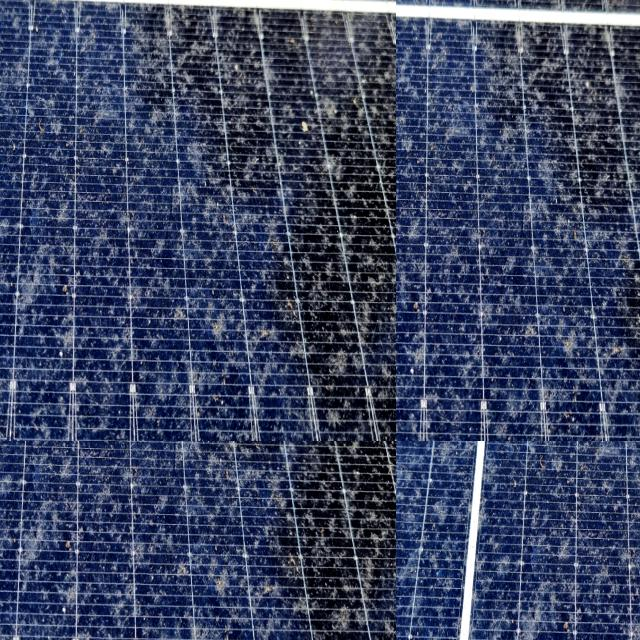bird: (0, 23, 40, 140)
crack: (396, 117, 459, 329), (396, 102, 444, 332), (396, 126, 444, 290), (396, 34, 426, 124), (396, 27, 424, 121), (396, 38, 426, 124), (396, 37, 424, 126), (396, 33, 424, 119), (0, 441, 28, 473), (396, 0, 412, 47), (396, 0, 413, 44), (0, 441, 25, 468), (396, 12, 415, 47), (0, 441, 16, 467), (0, 441, 14, 470), (0, 441, 17, 464), (0, 441, 18, 461), (0, 441, 15, 463), (0, 441, 13, 466), (0, 441, 19, 457), (0, 441, 12, 466), (0, 441, 13, 462), (0, 441, 12, 461), (0, 441, 10, 464), (0, 441, 10, 463), (0, 441, 11, 461), (0, 441, 9, 465), (0, 441, 10, 459), (0, 441, 15, 453), (0, 441, 9, 459), (0, 441, 9, 458), (0, 441, 8, 460), (0, 441, 8, 459), (0, 441, 7, 461), (0, 441, 8, 457), (0, 441, 9, 455), (0, 441, 7, 457), (0, 441, 7, 456), (0, 441, 6, 455), (0, 441, 8, 451), (0, 441, 6, 454), (0, 441, 7, 452), (0, 441, 6, 452), (0, 441, 6, 451), (0, 441, 6, 450), (0, 441, 3, 445)
dust: (495, 441, 640, 640), (396, 441, 498, 640)
